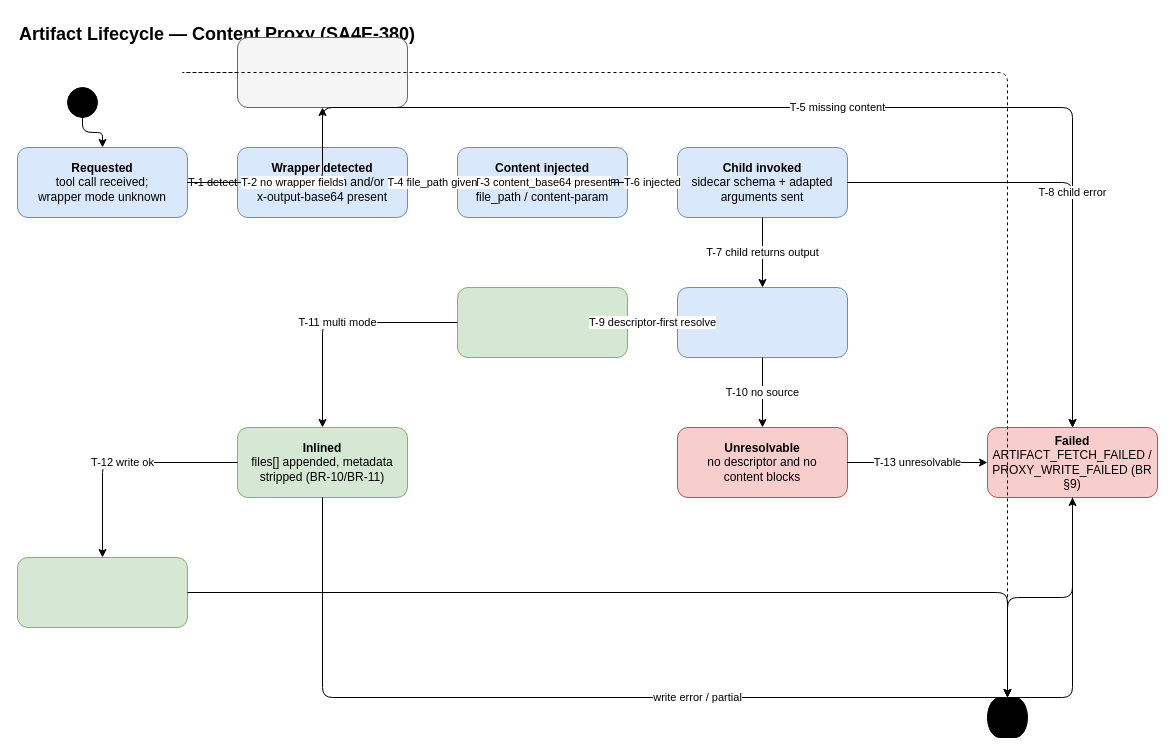
Some shapes in this 1175 by 755 pixel diagram are drawn without their labels. Here are the shapes that lost their labels. From the top down, the centre of each, then its label:
At point (322, 72): "Passthrough original schema + args unchanged (BR-05/BR-19)".
At point (542, 322): "Resolved bytes obtained in retrieval order (BR-08)".
At point (762, 322): "Artifact produced descriptor in structuredContent and/or base64 content blocks".
At point (102, 592): "Written file(s) on disk; payload returned (BR-09)".
